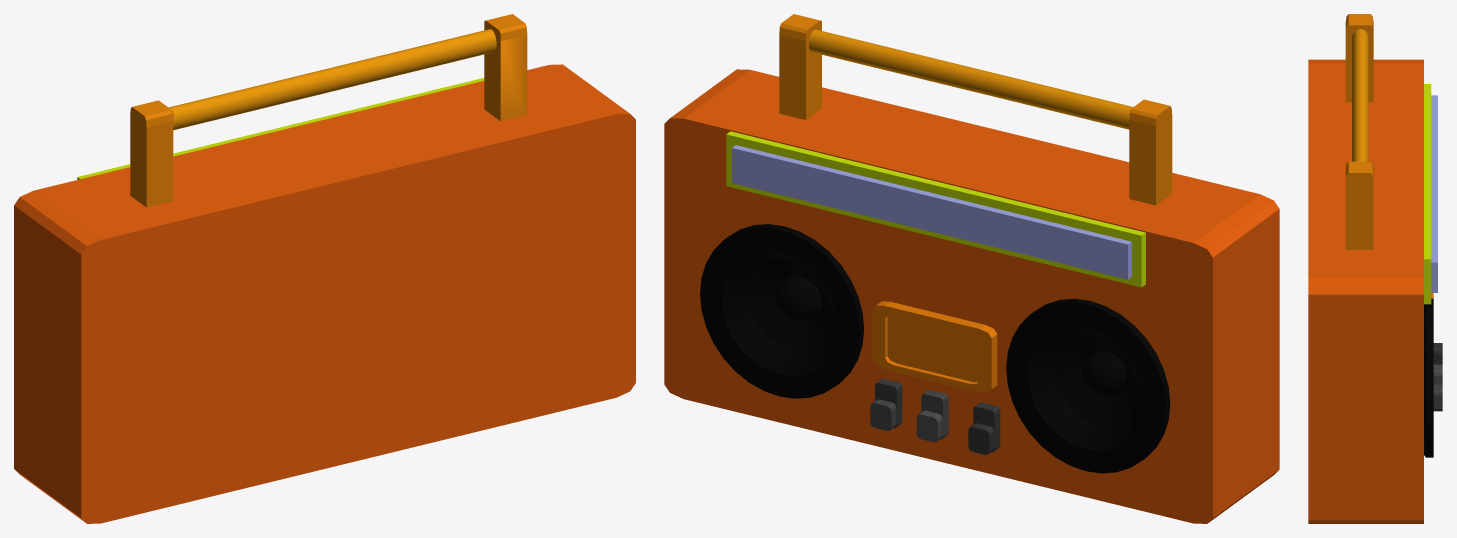
The model's file is boomboxshit.fbx.
The picture shows the model from 3 angles, left to right: view 1: azimuth 30°, elevation 25°; view 2: azimuth 150°, elevation 25°; view 3: azimuth 270°, elevation 25°; orthographic projection. The views are drawn at different scales.
Parts seen in each view (by area): view 1: Cube.010; view 2: Cube.010; view 3: Cube.010.
Part boxes in pixels (bbox=[...]): Cube.010: bbox=[14, 14, 635, 523]; Cube.010: bbox=[664, 14, 1279, 523]; Cube.010: bbox=[1308, 14, 1442, 523].
Size of the model in its own units: 409 by 263 by 100.
